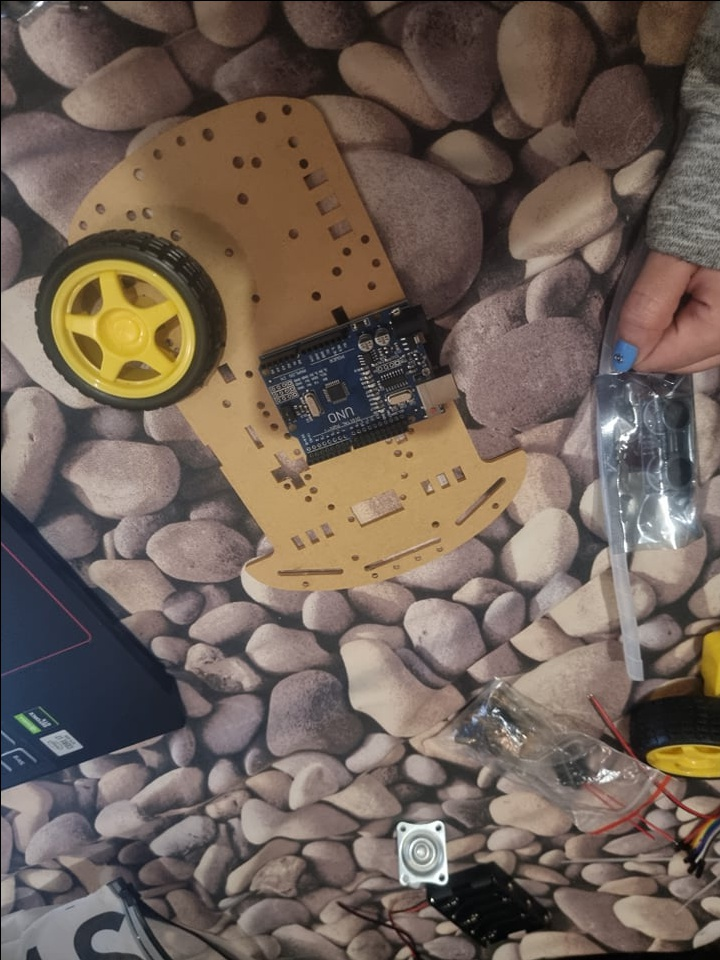BATTERY BOX: (420, 859, 551, 947)
SENSOR: (637, 386, 697, 495)
UNO R3: (257, 299, 464, 470)
